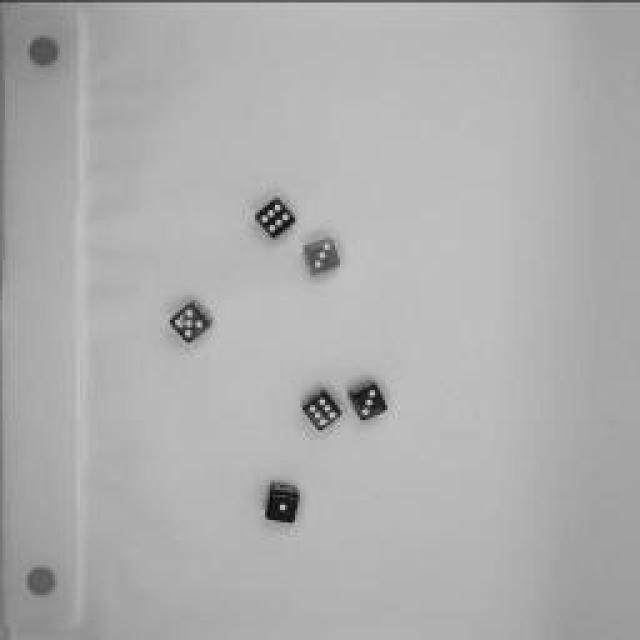dice_1: (259, 475, 309, 530)
dice_3: (342, 374, 392, 426), (298, 230, 350, 280)
dice_5: (162, 290, 218, 350)
dice_6: (295, 384, 347, 436), (250, 194, 302, 241)
